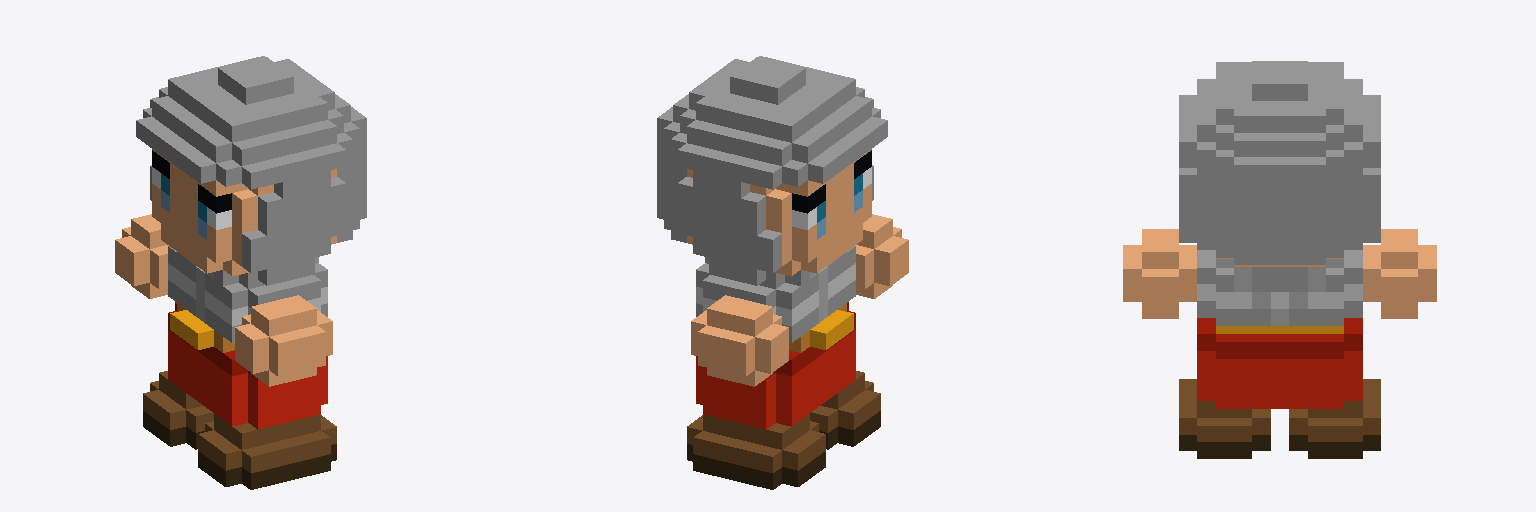
3 views of the same model, side by side, from view 1: azimuth 30°, elevation 25°; view 2: azimuth 150°, elevation 25°; view 3: azimuth 270°, elevation 25° (orthographic).
Visible parts, largest first — view 1: object 1; view 2: object 1; view 3: object 1.
Part boxes in pixels (bbox=[...]): object 1: bbox=[115, 56, 366, 489]; object 1: bbox=[657, 56, 908, 489]; object 1: bbox=[1123, 61, 1436, 458].
Bounding box in the file's own units: 1.1 × 2.2 × 1.7.
Materials: 1 (1 with a texture image).